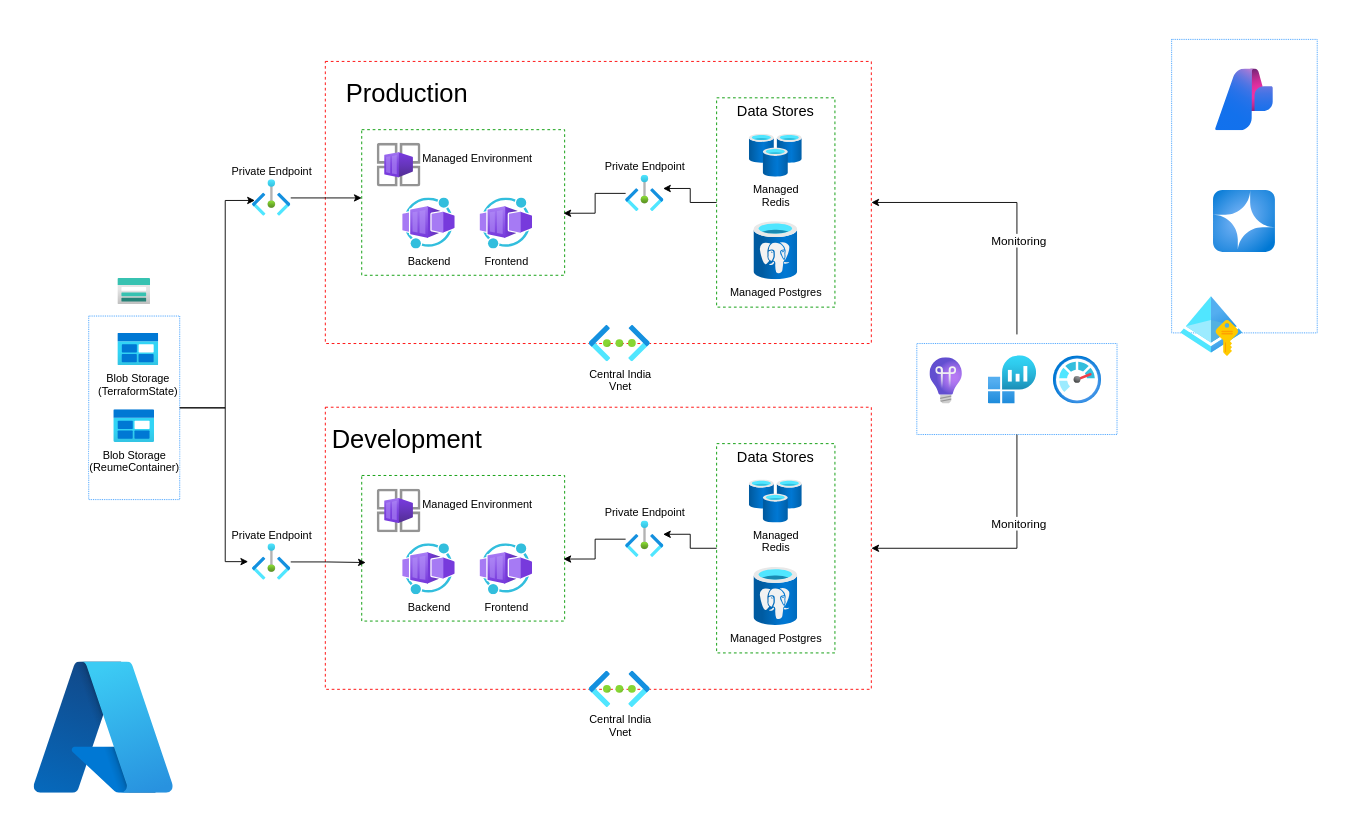
This 1360x814 diagram has some shape labels left out. Here are the shapes that lost their labels. From the top down, the box of each, then its label:
(1215, 68, 1273, 130): Microsoft Foundry
(1213, 190, 1275, 252): Azure OpenAI models
(117, 278, 150, 304): Storage Account
(1180, 296, 1242, 356): Managed Identity
(929, 357, 962, 404): Insights
(988, 355, 1036, 404): Log Workspace
(1053, 355, 1101, 404): Monitor
